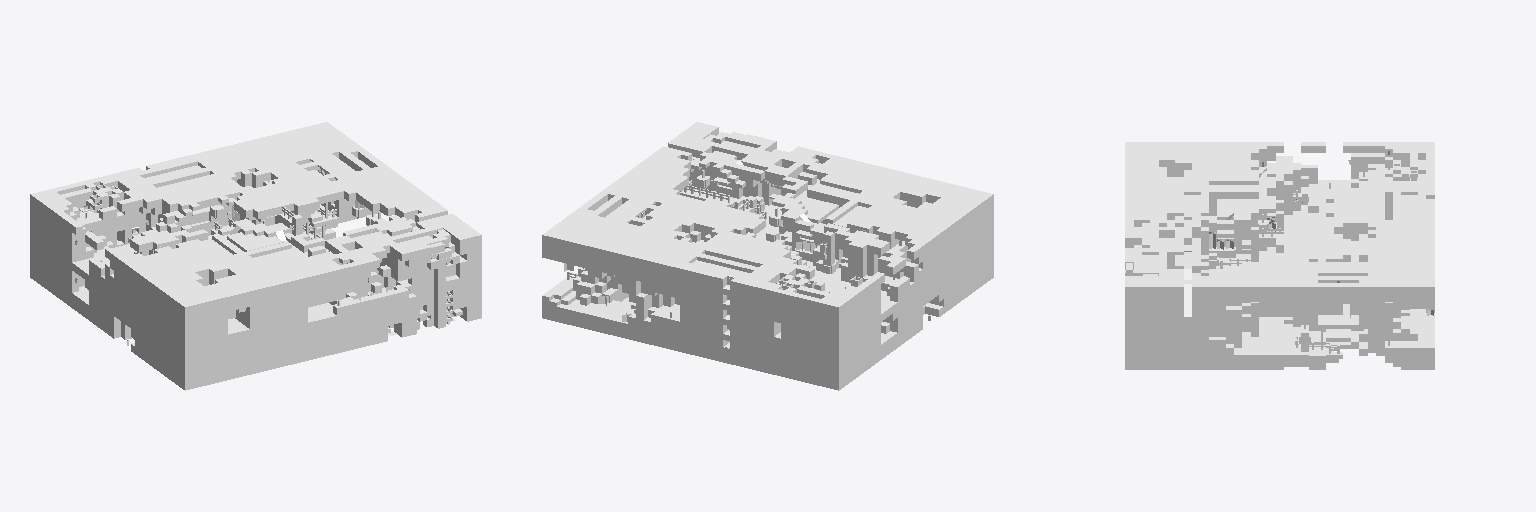
Rendered from villageA.obj.
3 renders of one model, left to right at view 1: azimuth 30°, elevation 25°; view 2: azimuth 150°, elevation 25°; view 3: azimuth 270°, elevation 25°, orthographic.
Visible parts, largest first — view 1: Etho's_LP_Ep550__-384_21_305_to_-344_31_341; view 2: Etho's_LP_Ep550__-384_21_305_to_-344_31_341; view 3: Etho's_LP_Ep550__-384_21_305_to_-344_31_341.
Boxes of the visible parts, box(x1,y1,x2,y2) form: Etho's_LP_Ep550__-384_21_305_to_-344_31_341: box(30, 122, 481, 390); Etho's_LP_Ep550__-384_21_305_to_-344_31_341: box(542, 122, 993, 390); Etho's_LP_Ep550__-384_21_305_to_-344_31_341: box(1125, 142, 1434, 369).
Bounding box in the file's own units: 41 × 11.06 × 37.